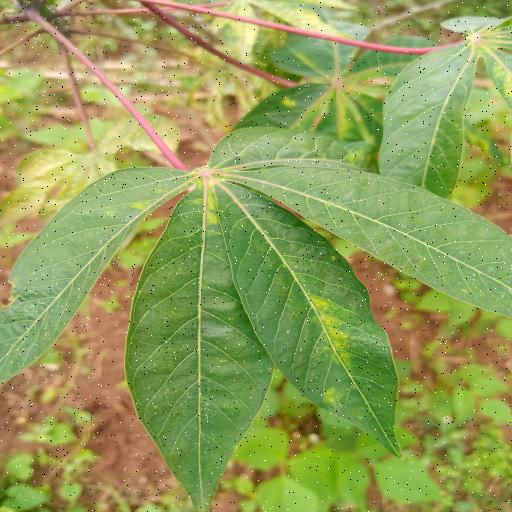Cassava_Mosaic: (2, 132, 512, 508)
